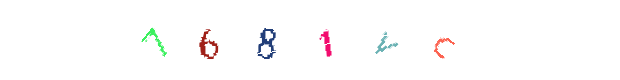1: (270, 0, 350, 80)
6: (167, 0, 247, 80)
7: (115, 0, 195, 80)
8: (226, 0, 306, 80)
C: (301, 0, 381, 80)
V: (270, 0, 350, 80)
